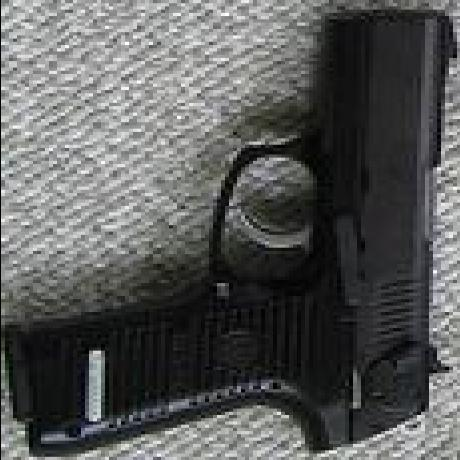weapon: (9, 14, 450, 454)
